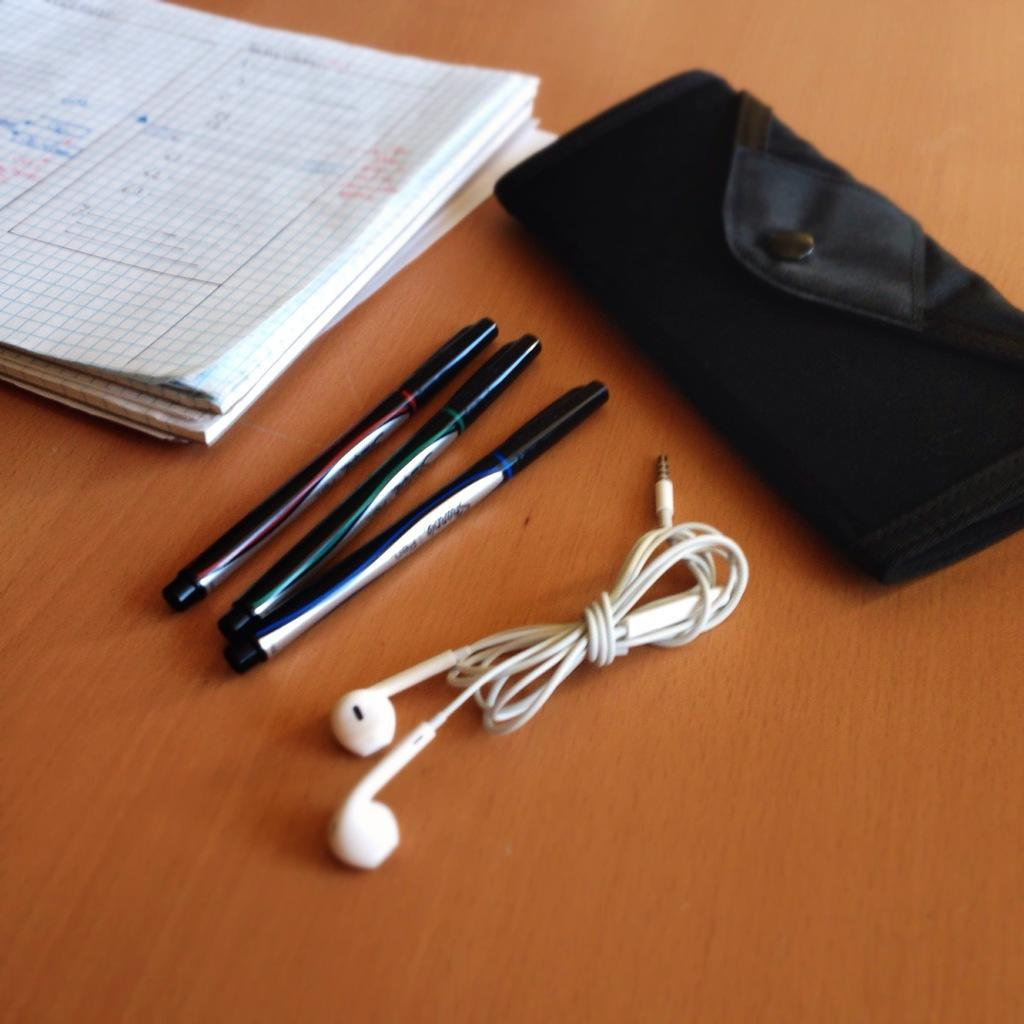pen: (230, 383, 609, 669), (158, 307, 497, 621), (221, 328, 543, 632)
